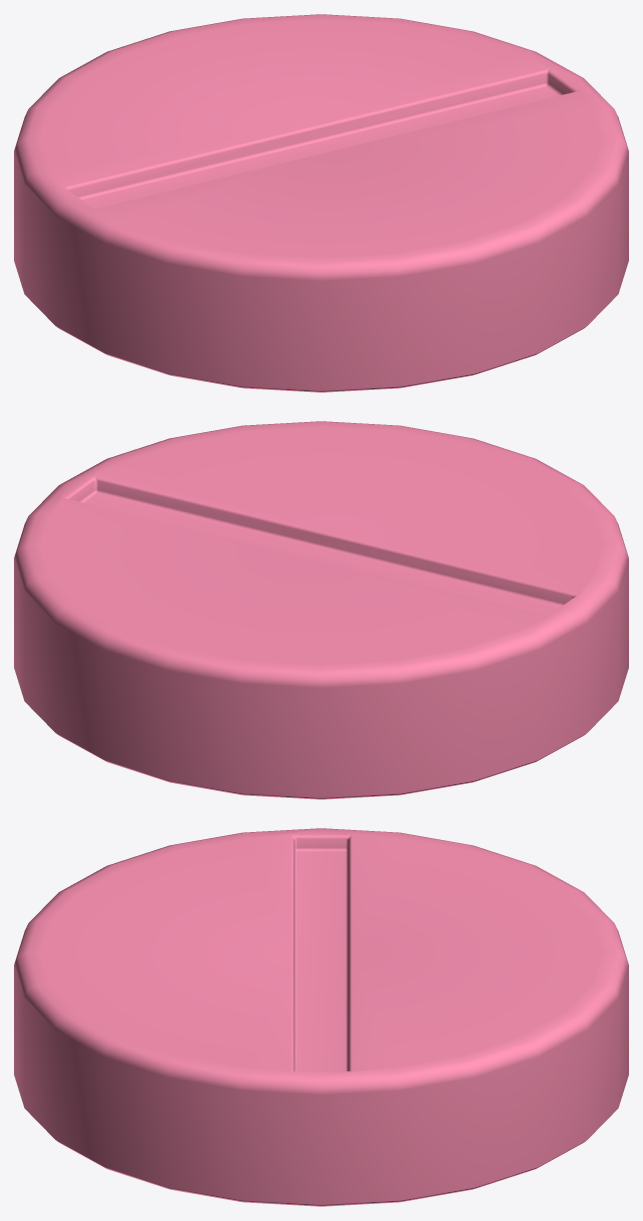
File: Public_3_Pill_3.glb
3 views of the same model, one above another, from view 1: azimuth 30°, elevation 25°; view 2: azimuth 150°, elevation 25°; view 3: azimuth 270°, elevation 25° (orthographic).
Visible parts, largest first — view 1: Public_3_Pill_3; view 2: Public_3_Pill_3; view 3: Public_3_Pill_3.
Boxes of the visible parts, left/top/right/bottom form: Public_3_Pill_3: left=14, top=14, right=628, bottom=392; Public_3_Pill_3: left=14, top=421, right=628, bottom=799; Public_3_Pill_3: left=14, top=828, right=628, bottom=1206.
Bounding box in the file's own units: 1.44 × 0.3254 × 1.44.
1 material, 1 textured.
